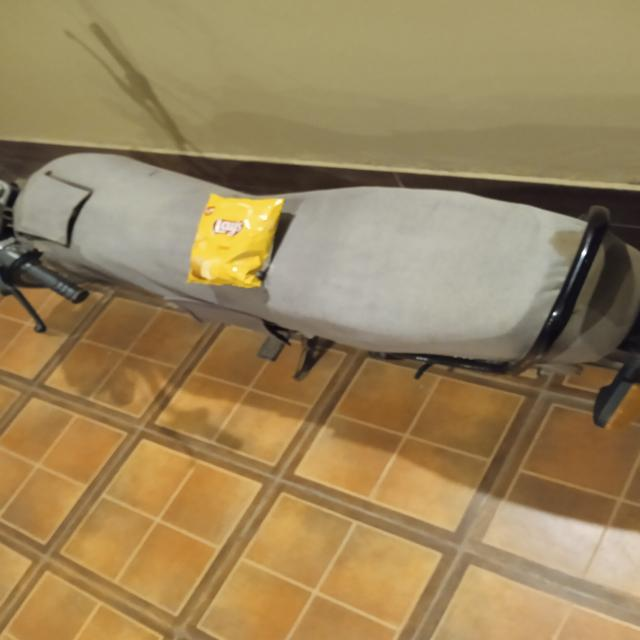Plastic: (176, 188, 292, 292)
